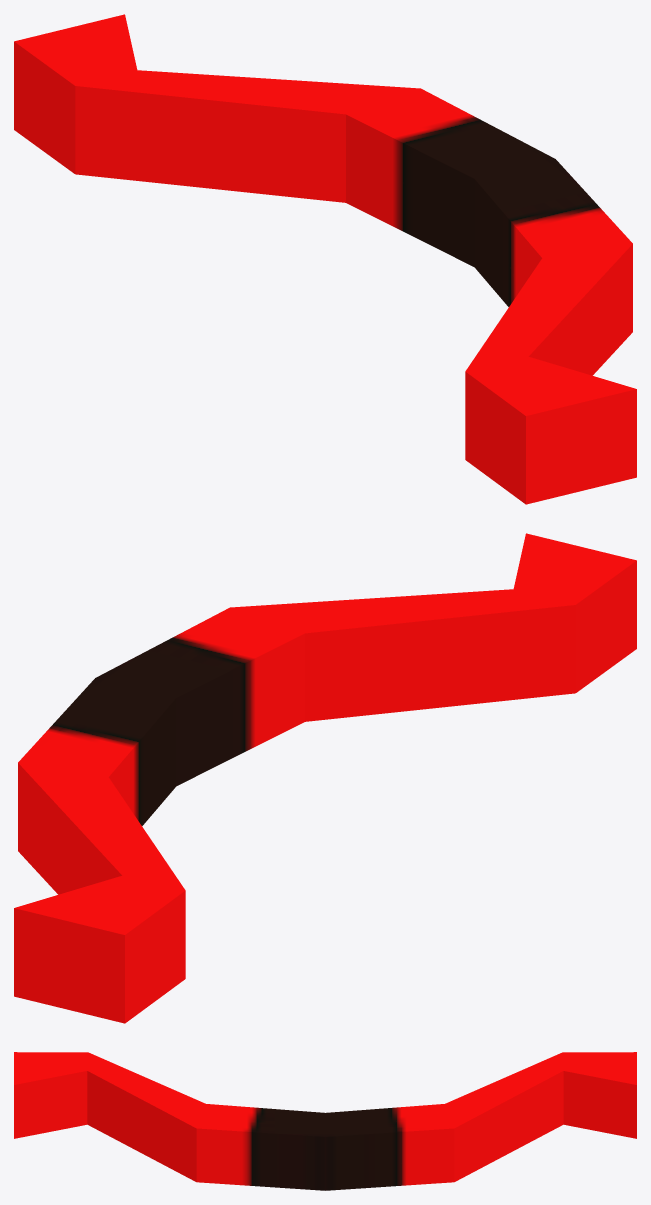
The model's file is archero-red-bow.glb.
3 renders of one model, top to bottom at view 1: azimuth 30°, elevation 25°; view 2: azimuth 150°, elevation 25°; view 3: azimuth 270°, elevation 25°, orthographic. The views are drawn at different scales.
Parts seen in each view (by area): view 1: WeaponHand1001_gong; view 2: WeaponHand1001_gong; view 3: WeaponHand1001_gong.
Part boxes in pixels (<box>): WeaponHand1001_gong: <box>14,14,636,504</box>; WeaponHand1001_gong: <box>14,533,636,1023</box>; WeaponHand1001_gong: <box>14,1052,636,1190</box>.
Bounding box in the file's own units: 0.4293 × 0.127 × 1.33.
1 material, 1 textured.
